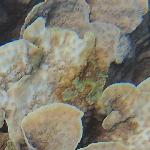dead: (1, 1, 144, 146)
